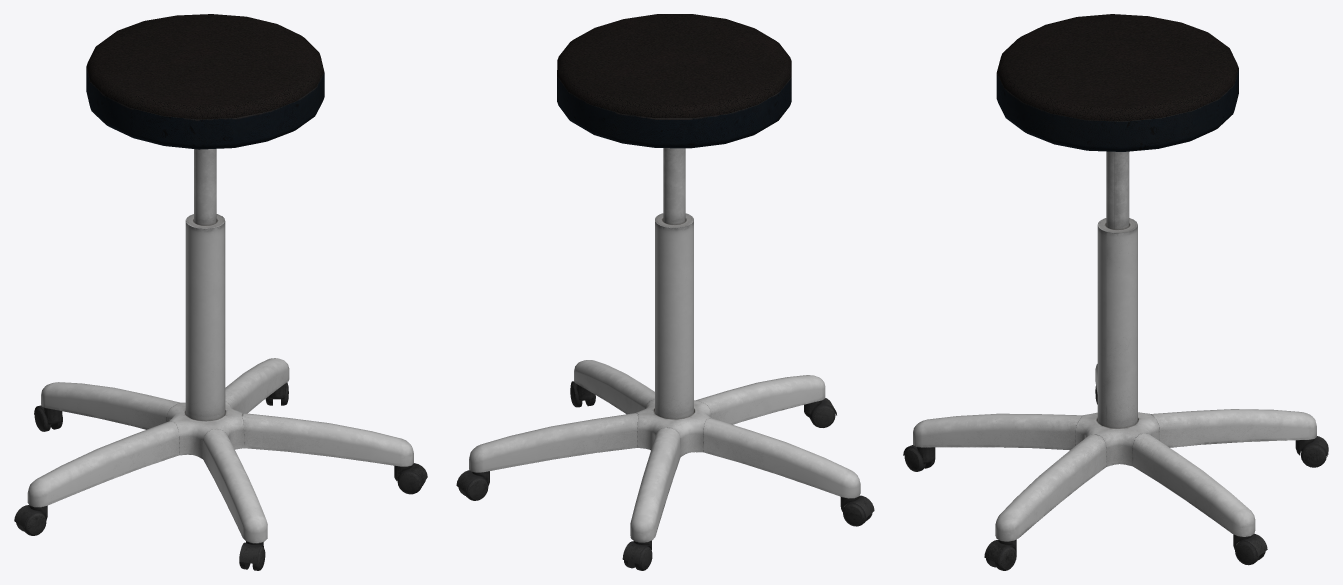
3 renders of one model, left to right at view 1: azimuth 30°, elevation 25°; view 2: azimuth 150°, elevation 25°; view 3: azimuth 270°, elevation 25°, orthographic. The views are drawn at different scales.
Parts seen in each view (by area): view 1: 凳子di; view 2: 凳子di; view 3: 凳子di.
Part boxes in pixels (x1,y1,x2,y2): 凳子di: (14,14,427,570); 凳子di: (456,14,874,570); 凳子di: (903,14,1328,570).
Size of the model in its own units: 0.6377 by 0.7396 by 0.6505.
Materials: 1 (1 with a texture image).
